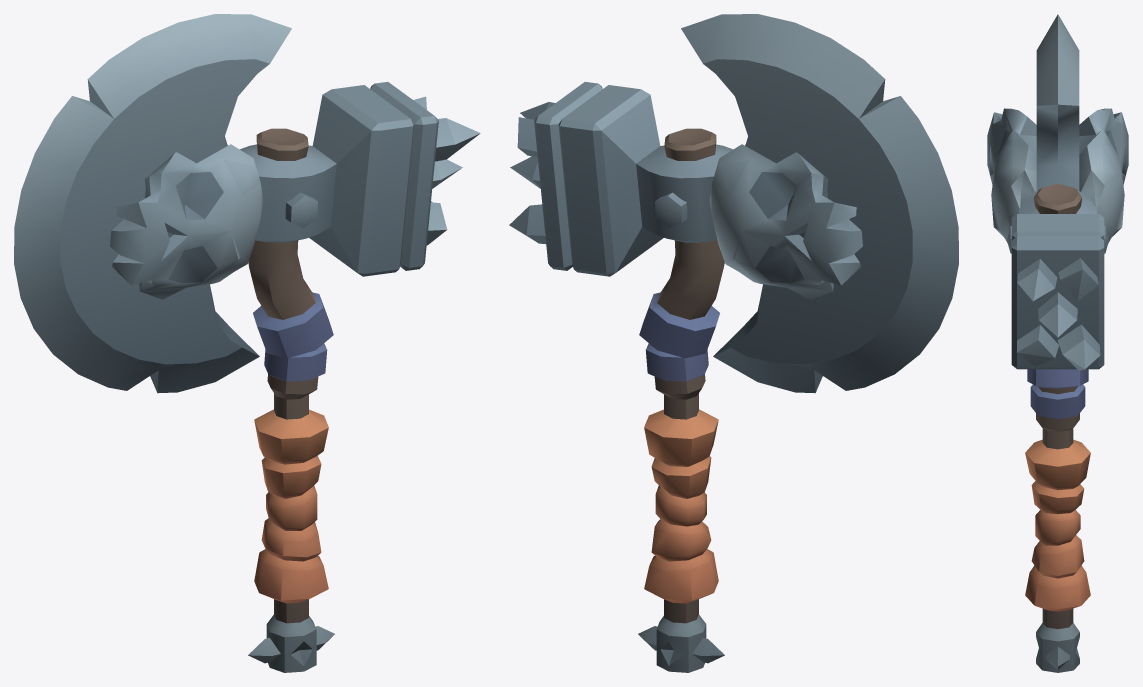
The model's file is Skeleton_Golem_Axe_Large.glb.
3 views of the same model, side by side, from view 1: azimuth 30°, elevation 25°; view 2: azimuth 150°, elevation 25°; view 3: azimuth 270°, elevation 25° (orthographic). The views are drawn at different scales.
Visible parts, largest first — view 1: Skeleton_Golem_Axe_Large; view 2: Skeleton_Golem_Axe_Large; view 3: Skeleton_Golem_Axe_Large.
Part boxes in pixels (x1=…): Skeleton_Golem_Axe_Large: x1=14, y1=14, x2=480, y2=672; Skeleton_Golem_Axe_Large: x1=509, y1=14, x2=958, y2=672; Skeleton_Golem_Axe_Large: x1=987, y1=14, x2=1128, y2=672.
Size of the model in its own units: 2.29 by 3.25 by 0.7006.
1 material, 1 textured.
